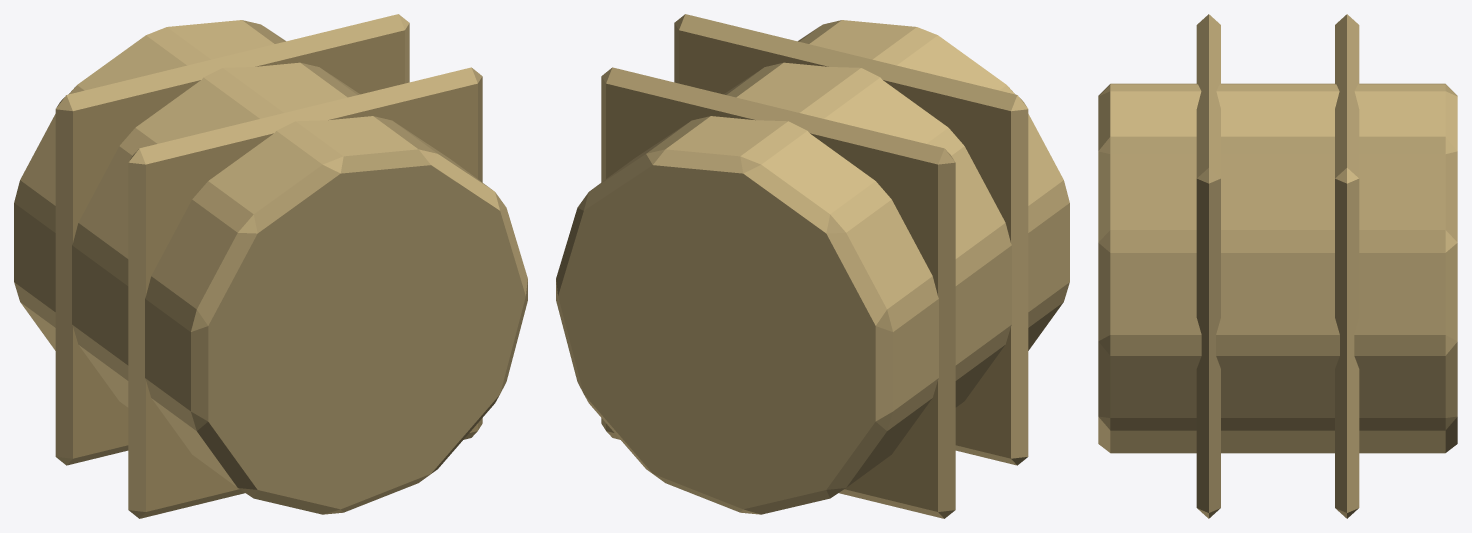
File: SM_Kit_fardo.fbx
The picture shows the model from 3 angles, left to right: view 1: azimuth 30°, elevation 25°; view 2: azimuth 150°, elevation 25°; view 3: azimuth 270°, elevation 25°; orthographic projection. The views are drawn at different scales.
Visible parts, largest first — view 1: SM_Kit_fardo; view 2: SM_Kit_fardo; view 3: SM_Kit_fardo.
Boxes of the visible parts, bbox=[...] form: SM_Kit_fardo: bbox=[14, 14, 527, 518]; SM_Kit_fardo: bbox=[556, 14, 1069, 518]; SM_Kit_fardo: bbox=[1098, 14, 1457, 518].
Size of what is drawn, in the model's own units: 112 by 112 by 104.
